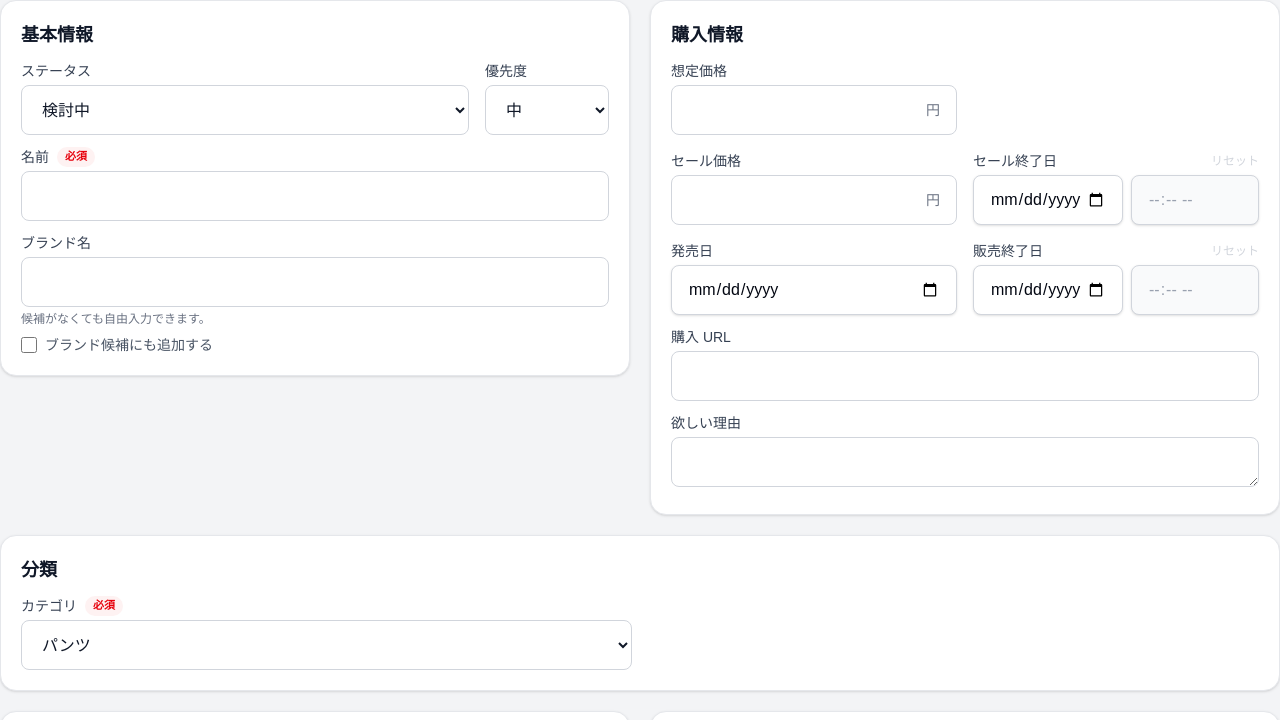
Test: 購入検討フォーム › pants では spec UI を表示する
Select "パンツ" in the dropdown with id "category_group_id" at (326, 645), box x1=21 y1=620 x2=632 y2=670
Select "パンツ" in the dropdown with id "category_group_id" at (326, 645), box x1=21 y1=620 x2=632 y2=670
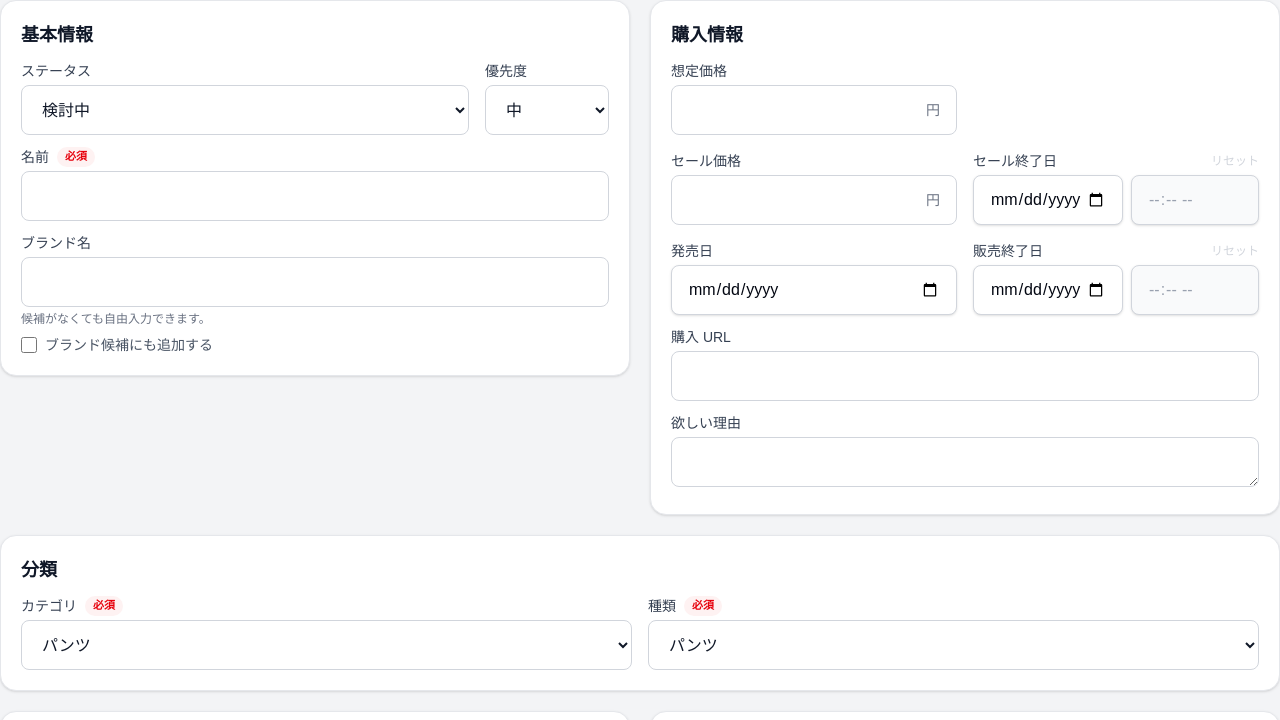
Select "パンツ" in the dropdown with id "category_id" at (954, 645), box x1=648 y1=620 x2=1259 y2=670
Select "パンツ" in the dropdown with id "category_id" at (954, 645), box x1=648 y1=620 x2=1259 y2=670
(page scrolled)
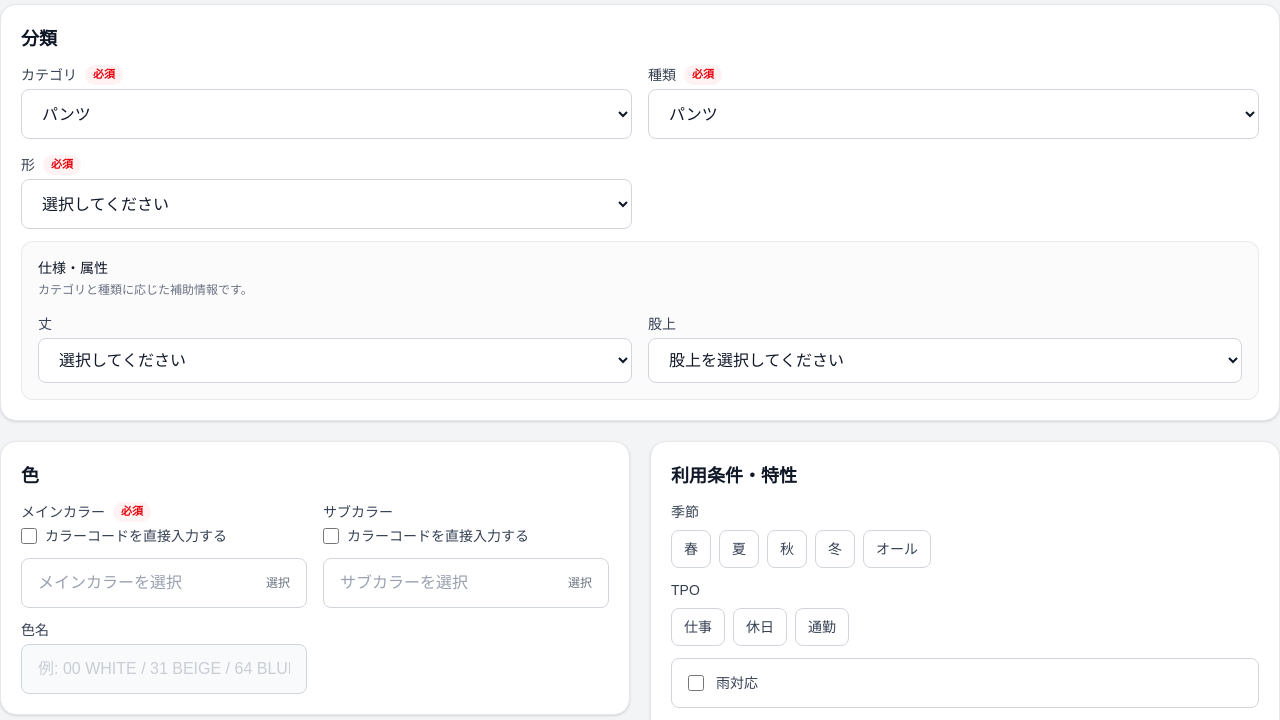
Expected: the dropdown with id "spec-bottoms-length-type" is shown, x1=38 y1=338 x2=632 y2=383
Expected: the dropdown with id "spec-bottoms-rise-type" is shown, x1=648 y1=338 x2=1242 y2=383
